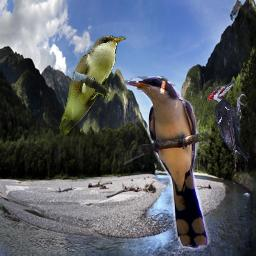Cuckoo: (124, 76, 211, 251), (58, 35, 126, 135)
Woodpecker: (207, 80, 250, 162)
